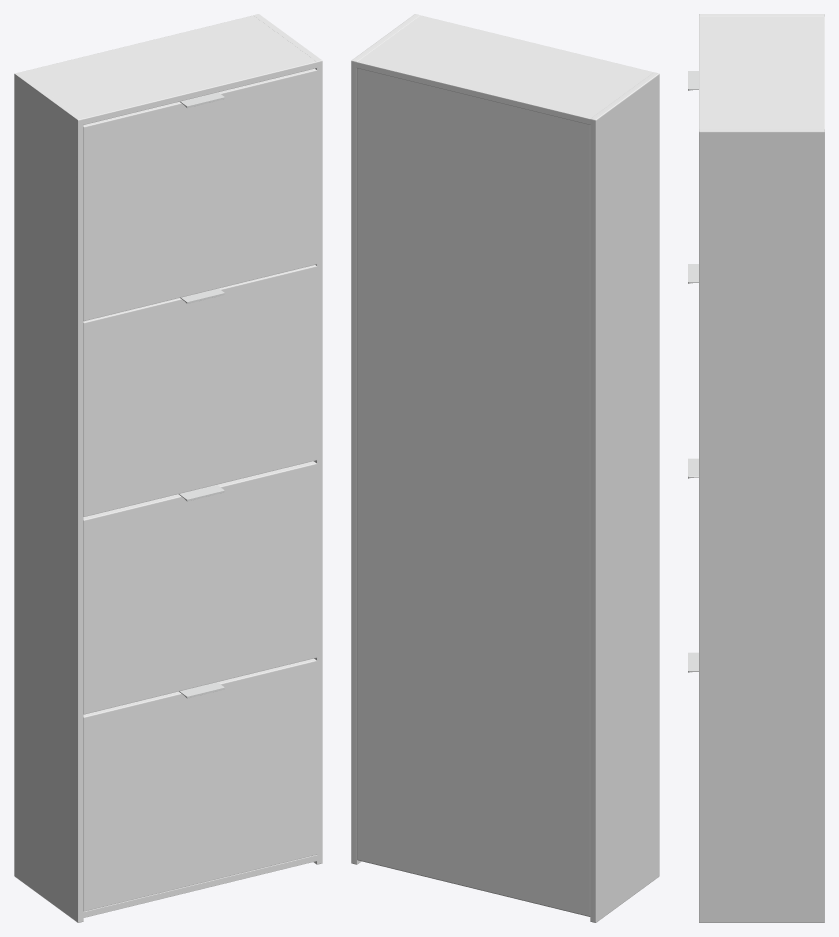
File: cabinet_B07GG2X2MX.glb
The picture shows the model from 3 angles, left to right: view 1: azimuth 30°, elevation 25°; view 2: azimuth 150°, elevation 25°; view 3: azimuth 270°, elevation 25°; orthographic projection.
Visible parts, largest first — view 1: RootNode; view 2: RootNode; view 3: RootNode.
Boxes of the visible parts, x1,y1,x2,y2 form: RootNode: (14,14,322,922); RootNode: (351,14,659,922); RootNode: (688,14,824,922).
Size of the model in its own units: 0.5199 by 1.63 by 0.2555.
1 material, 1 textured.
